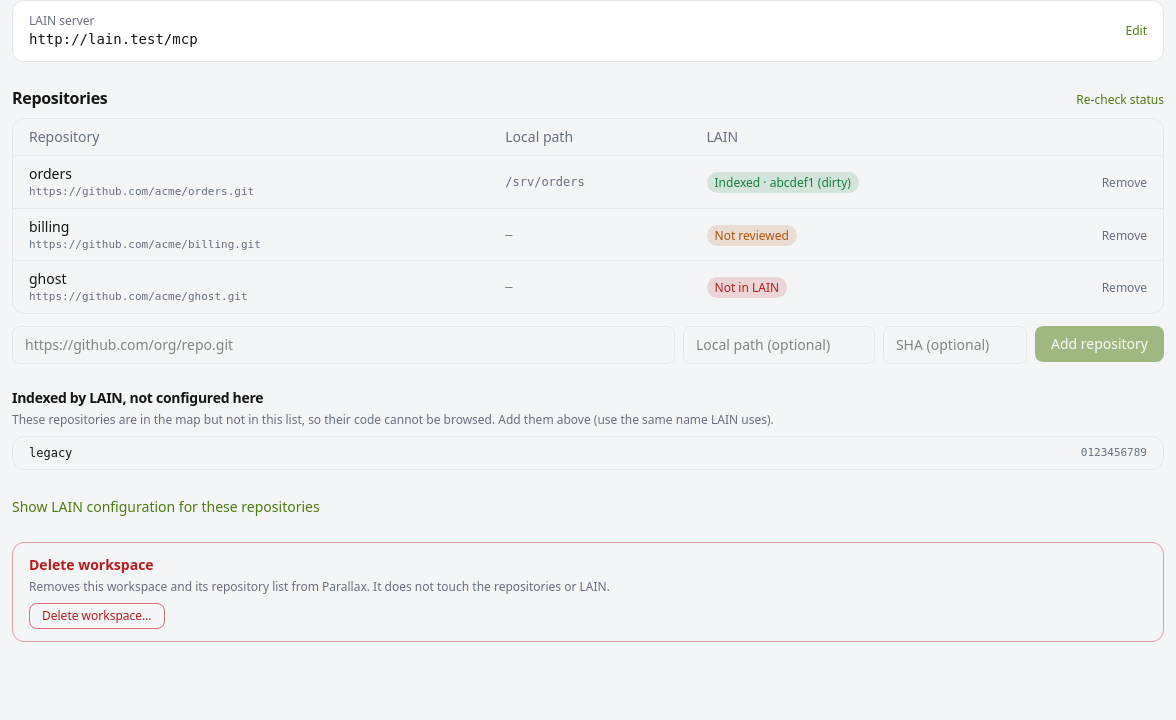
Test: RepoManager — add and remove › a failed removal says why
Check: the text "Indexed · abcdef1 (dirty)" is shown, box x1=706 y1=172 x2=859 y2=193
Click the button with aria-label "Remove ghost".
click(1124, 288)  # box x1=1102 y1=280 x2=1147 y2=296
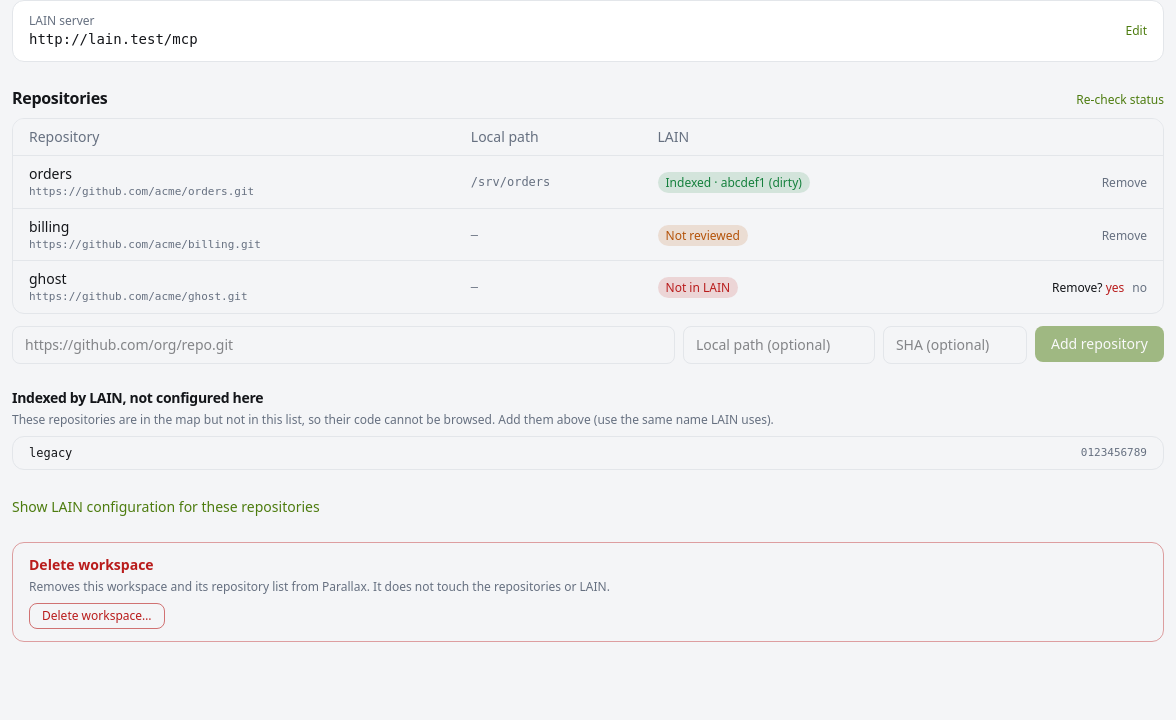
Click the button "yes".
click(1115, 288)  # box x1=1106 y1=280 x2=1124 y2=296
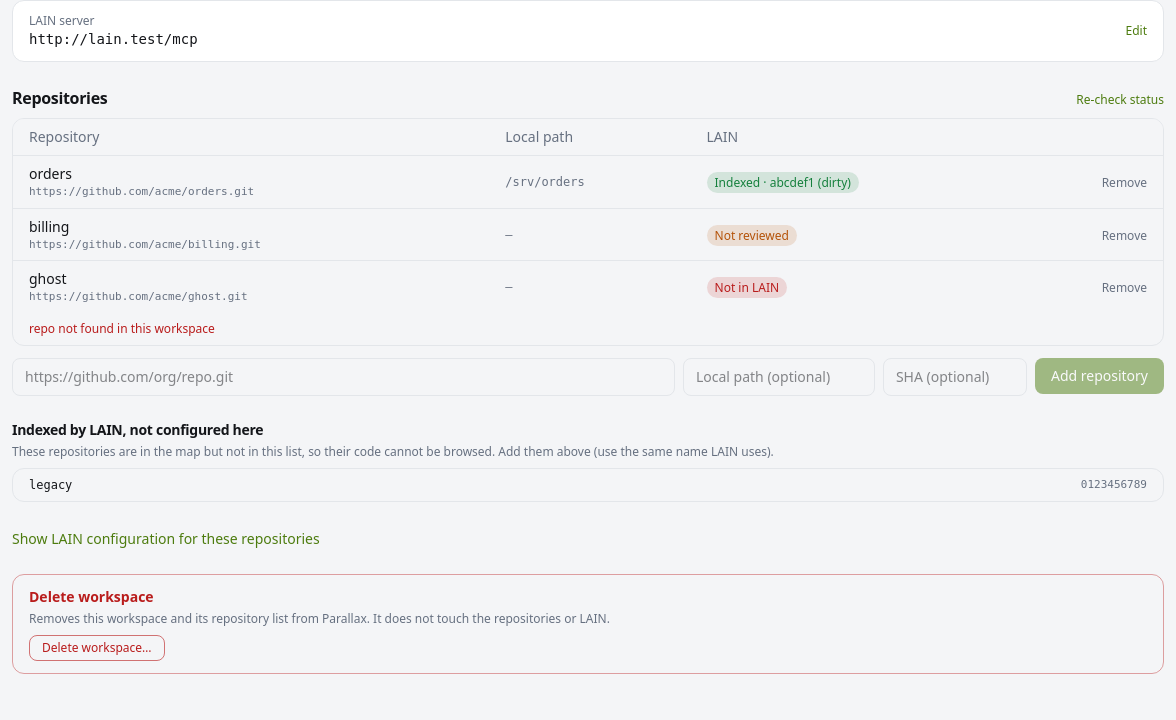
Check: the message reads "repo not found in this workspace", box x1=29 y1=320 x2=215 y2=337
